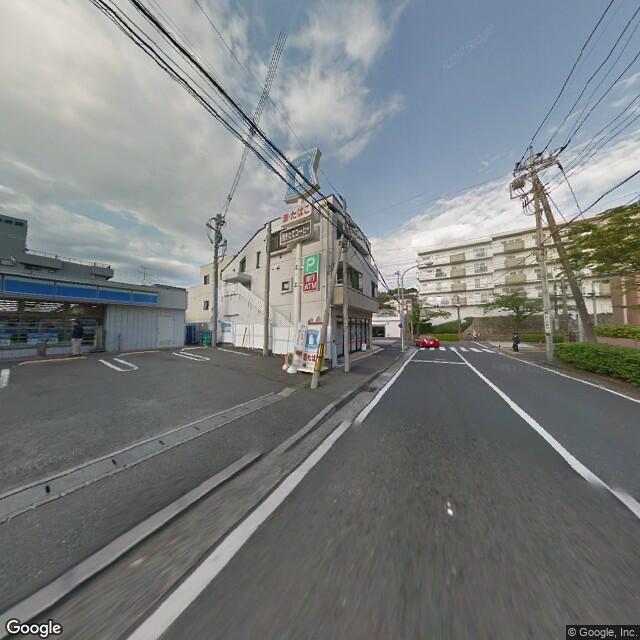lawson: (2, 269, 159, 306), (281, 146, 321, 205), (301, 327, 321, 353)
